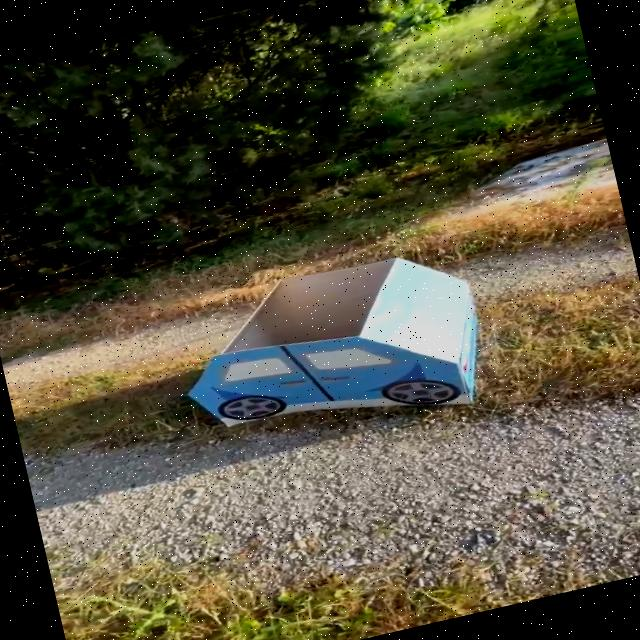blue_car: (113, 184, 586, 495)
